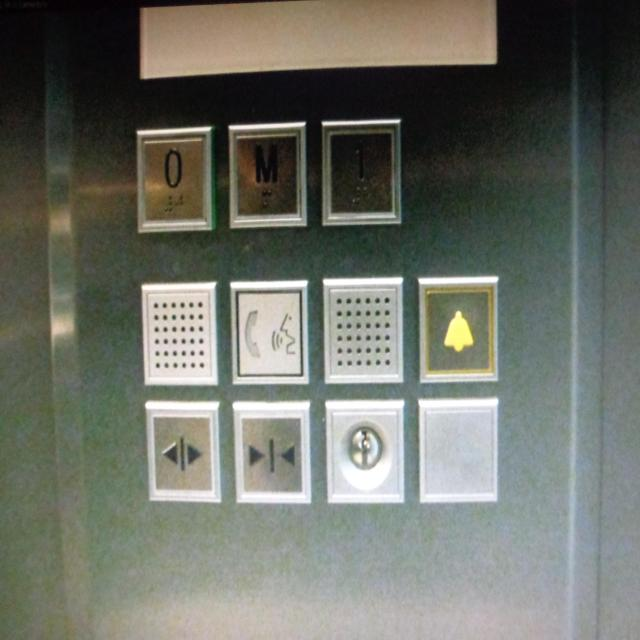0: (135, 128, 215, 235)
1: (322, 120, 402, 224)
M: (227, 124, 309, 227)
alarm: (418, 276, 497, 382)
bt_keyhole: (325, 401, 405, 503)
call: (229, 280, 309, 382)
close: (232, 401, 312, 506)
empty: (414, 393, 502, 512)
open: (142, 402, 222, 505)
speaker: (138, 276, 220, 391), (322, 274, 404, 389)
